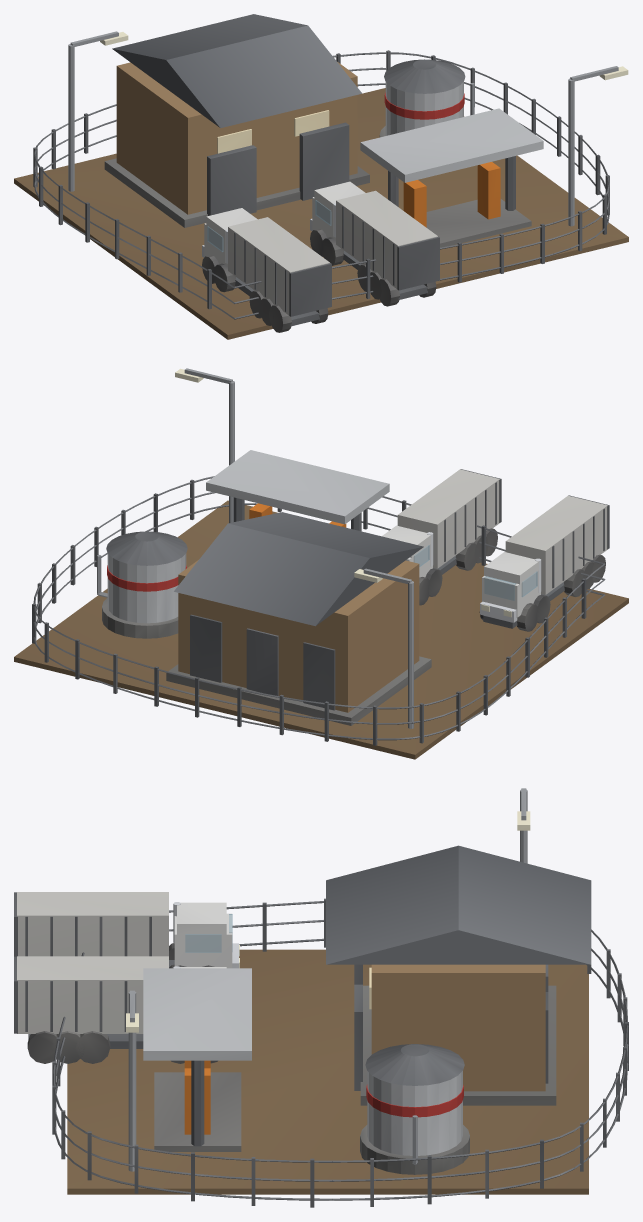
Rendered from Fleet_P1.fbx.
3 views of the same model, one above another, from view 1: azimuth 30°, elevation 25°; view 2: azimuth 150°, elevation 25°; view 3: azimuth 270°, elevation 25° (orthographic). The views are drawn at different scales.
Visible parts, largest first — view 1: Fleet.Garage, Fleet.Yard, Fleet.FuelIsland, Fleet.Parked0, Fleet.Parked1, Fleet.Fence, Fleet.Doors, Fleet.FuelTank, Fleet.Lamp0, Fleet.Lamp1; view 2: Fleet.Garage, Fleet.Yard, Fleet.Parked0, Fleet.Fence, Fleet.Parked1, Fleet.FuelIsland, Fleet.FuelTank, Fleet.Lamp0, Fleet.Lamp1; view 3: Fleet.Yard, Fleet.Garage, Fleet.FuelIsland, Fleet.Parked0, Fleet.Parked1, Fleet.FuelTank, Fleet.Fence, Fleet.Lamp1, Fleet.Doors, Fleet.Lamp0.
Boxes of the visible parts, left/top/right/bottom form: Fleet.Garage: left=104, top=14, right=369, bottom=227; Fleet.Yard: left=14, top=88, right=628, bottom=339; Fleet.FuelIsland: left=360, top=108, right=543, bottom=247; Fleet.Parked0: left=202, top=208, right=331, bottom=332; Fleet.Parked1: left=310, top=181, right=439, bottom=306; Fleet.Fence: left=33, top=50, right=609, bottom=319; Fleet.Doors: left=207, top=122, right=349, bottom=215; Fleet.FuelTank: left=379, top=59, right=474, bottom=137; Fleet.Lamp0: left=68, top=31, right=128, bottom=191; Fleet.Lamp1: left=568, top=66, right=628, bottom=226; Fleet.Garage: left=166, top=512, right=431, bottom=725; Fleet.Yard: left=14, top=500, right=628, bottom=759; Fleet.Parked0: left=479, top=495, right=609, bottom=631; Fleet.Fence: left=32, top=476, right=605, bottom=745; Fleet.Parked1: left=382, top=469, right=501, bottom=605; Fleet.FuelIsland: left=206, top=450, right=389, bottom=531; Fleet.FuelTank: left=97, top=531, right=187, bottom=638; Fleet.Lamp0: left=354, top=568, right=413, bottom=728; Fleet.Lamp1: left=175, top=368, right=234, bottom=522; Fleet.Yard: left=67, top=949, right=588, bottom=1194; Fleet.Garage: left=326, top=845, right=591, bottom=1105; Fleet.FuelIsland: left=143, top=968, right=251, bottom=1151; Fleet.Parked0: left=14, top=892, right=239, bottom=968; Fleet.Parked1: left=14, top=956, right=226, bottom=1063; Fleet.FuelTank: left=360, top=1044, right=469, bottom=1174; Fleet.Fence: left=52, top=898, right=628, bottom=1207; Fleet.Lamp1: left=126, top=990, right=138, bottom=1171; Fleet.Doors: left=354, top=964, right=362, bottom=1090; Fleet.Lamp0: left=517, top=788, right=530, bottom=863.
Size of the model in its own units: 2895 by 942 by 2829.
